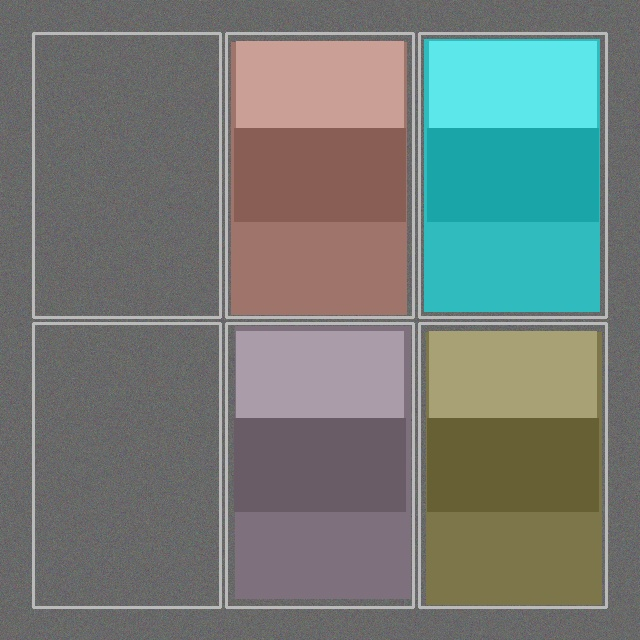space-empty: (35, 35, 218, 315), (35, 325, 218, 605)
space-occupied: (228, 35, 411, 315), (421, 35, 604, 315), (228, 325, 411, 605), (421, 325, 604, 605)
